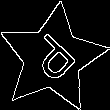P_SE: (21, 27, 84, 89)
